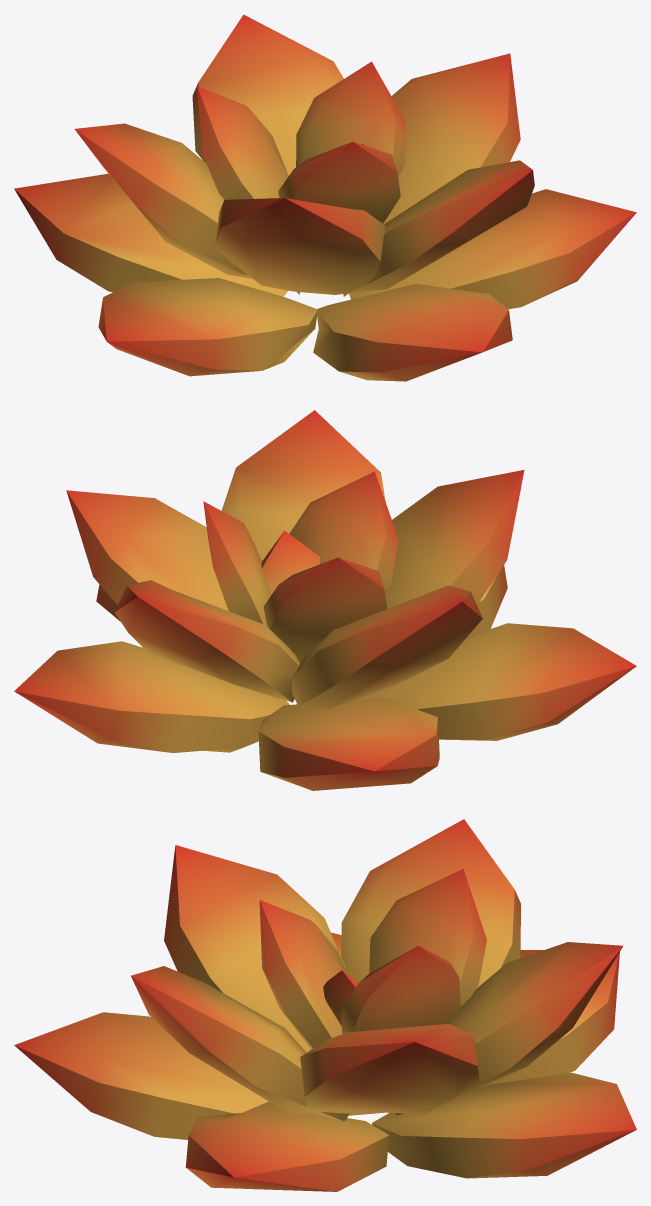
The picture shows the model from 3 angles, top to bottom: view 1: azimuth 30°, elevation 25°; view 2: azimuth 150°, elevation 25°; view 3: azimuth 270°, elevation 25°; orthographic projection. The views are drawn at different scales.
Visible parts, largest first — view 1: LOD 1_16967760880170184947_4f521bcaeda9b9647b799715f43ad4b9; view 2: LOD 1_16967760880170184947_4f521bcaeda9b9647b799715f43ad4b9; view 3: LOD 1_16967760880170184947_4f521bcaeda9b9647b799715f43ad4b9.
Part boxes in pixels (bbox=[...]): LOD 1_16967760880170184947_4f521bcaeda9b9647b799715f43ad4b9: bbox=[14, 14, 636, 381]; LOD 1_16967760880170184947_4f521bcaeda9b9647b799715f43ad4b9: bbox=[14, 410, 636, 790]; LOD 1_16967760880170184947_4f521bcaeda9b9647b799715f43ad4b9: bbox=[14, 819, 636, 1191].
Size of the model in its own units: 0.8955 by 0.3434 by 0.8664.
